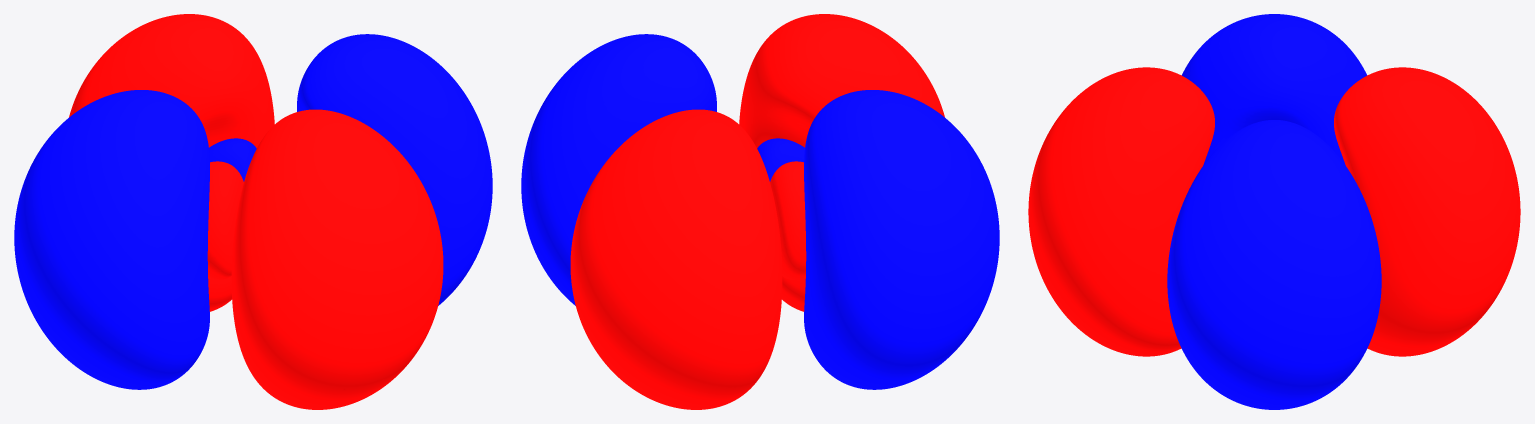
File: orbital_n4_l2_m2_real_signed.fbx
3 views of the same model, side by side, from view 1: azimuth 30°, elevation 25°; view 2: azimuth 150°, elevation 25°; view 3: azimuth 270°, elevation 25° (orthographic). The views are drawn at different scales.
Parts seen in each view (by area): view 1: orbital_n4_l2_m2_real_signed; view 2: orbital_n4_l2_m2_real_signed; view 3: orbital_n4_l2_m2_real_signed.
Boxes of the visible parts, box(x1,y1,x2,y2) form: orbital_n4_l2_m2_real_signed: box(14, 14, 492, 409); orbital_n4_l2_m2_real_signed: box(521, 14, 999, 409); orbital_n4_l2_m2_real_signed: box(1028, 14, 1520, 409).
Bounding box in the file's own units: 6847 × 4217 × 6847.
